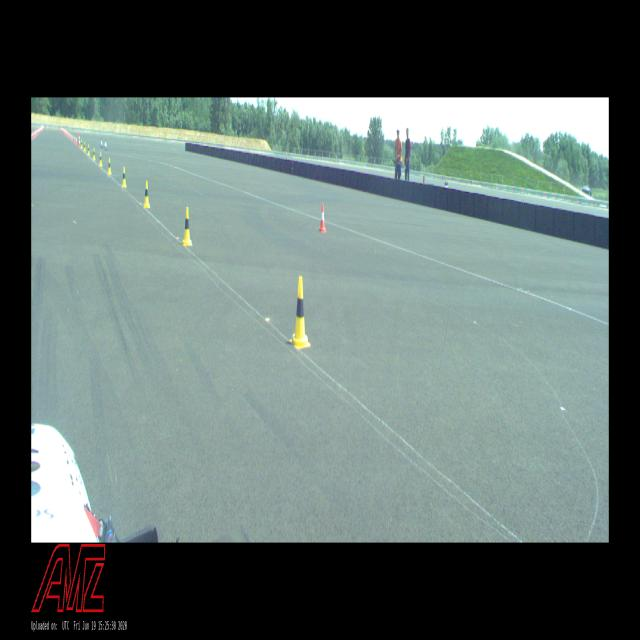large_orange_cone: (78, 134, 81, 146)
orange_cone: (319, 205, 326, 232)
yellow_cone: (290, 277, 310, 347), (183, 207, 192, 245), (144, 181, 150, 207), (121, 167, 127, 187), (99, 153, 103, 166), (108, 159, 111, 174), (92, 148, 96, 159), (84, 142, 86, 152), (88, 145, 90, 154), (81, 141, 83, 148)
